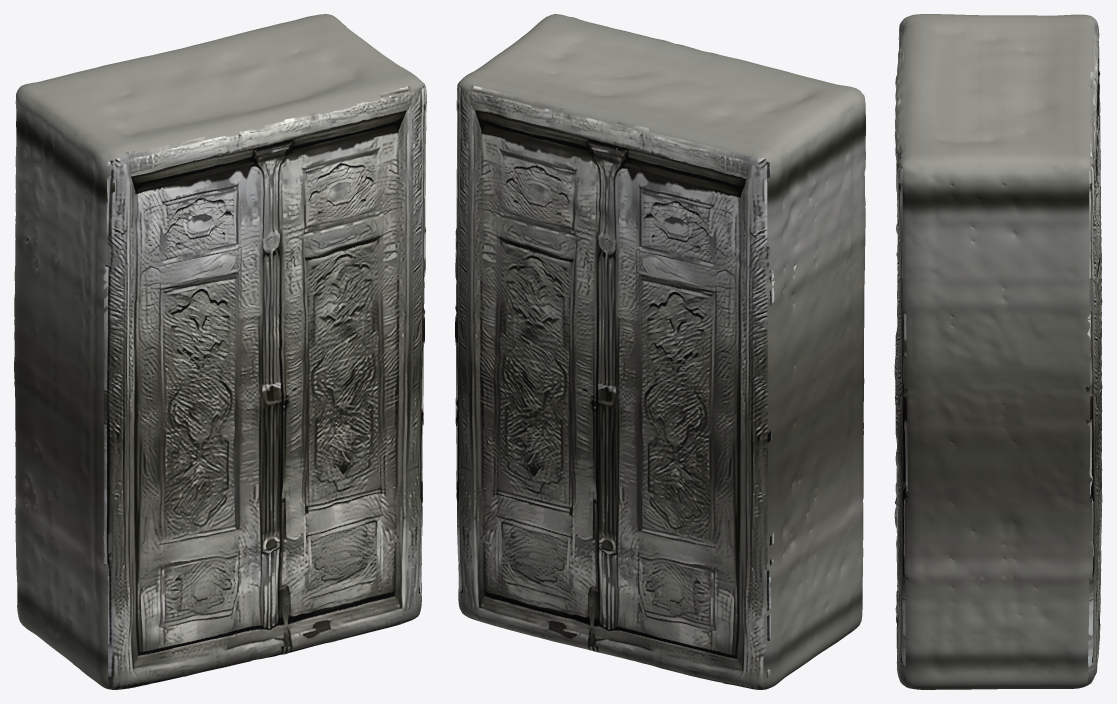
Rendered from kfl-2287.glb.
3 views of the same model, side by side, from view 1: azimuth 30°, elevation 25°; view 2: azimuth 150°, elevation 25°; view 3: azimuth 270°, elevation 25° (orthographic).
Parts seen in each view (by area): view 1: kfl-2287; view 2: kfl-2287; view 3: kfl-2287.
Boxes of the visible parts, left/top/right/bottom form: kfl-2287: left=14, top=14, right=426, bottom=689; kfl-2287: left=455, top=14, right=865, bottom=689; kfl-2287: left=894, top=14, right=1102, bottom=689.
Bounding box in the file's own units: 0.6258 × 1 × 0.3511.
Materials: 3 (3 with a texture image).
